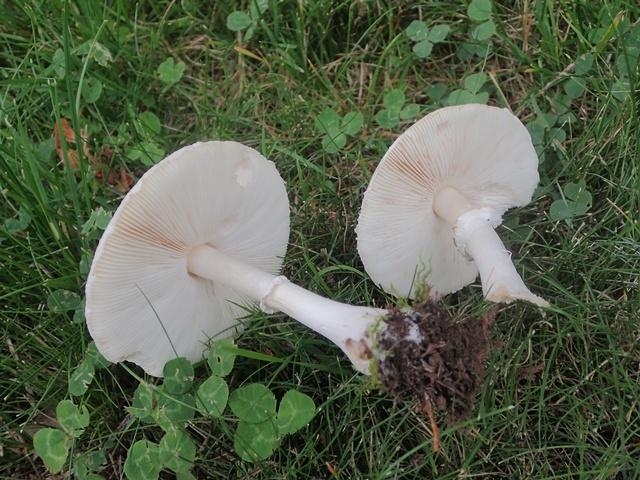poisonous_mushroom: (83, 138, 401, 380), (354, 101, 551, 310)
